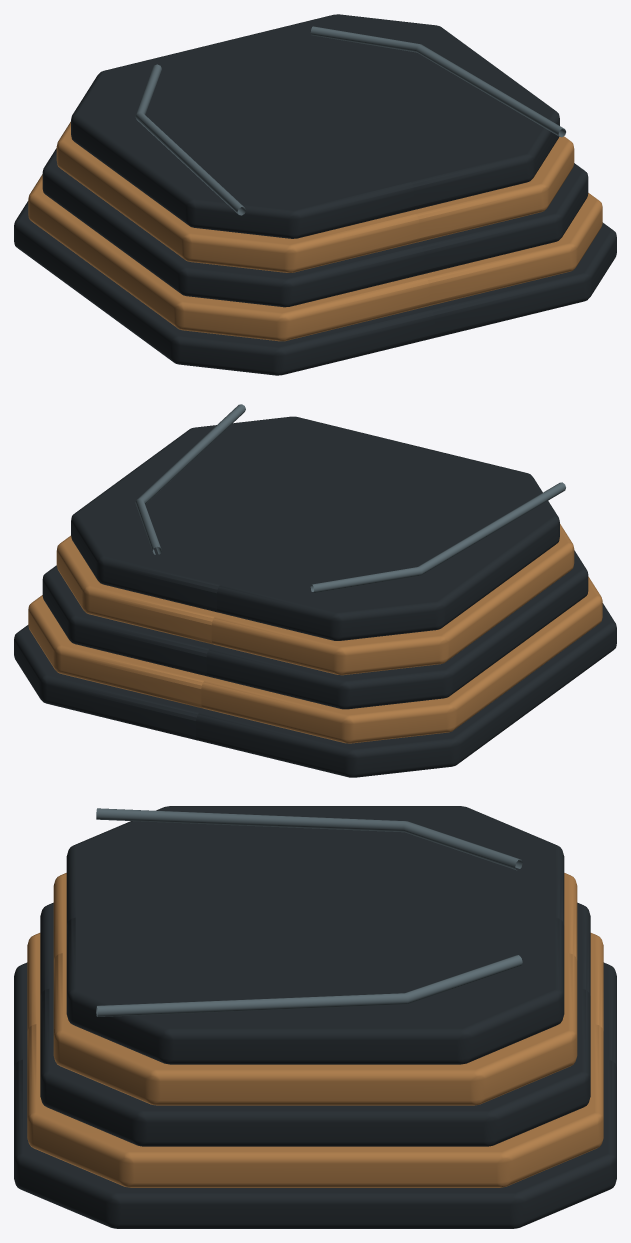
File: raw_morrow_composite.glb
3 renders of one model, top to bottom at view 1: azimuth 30°, elevation 25°; view 2: azimuth 150°, elevation 25°; view 3: azimuth 270°, elevation 25°, orthographic. The views are drawn at different scales.
Visible parts, largest first — view 1: UnfinishedLaminate.004, UnfinishedLaminate, UnfinishedLaminate.001, UnfinishedLaminate.002, UnfinishedLaminate.003, RawLamination.001; view 2: UnfinishedLaminate.004, UnfinishedLaminate, UnfinishedLaminate.001, UnfinishedLaminate.002, UnfinishedLaminate.003, RawLamination.001; view 3: UnfinishedLaminate.004, UnfinishedLaminate, UnfinishedLaminate.001, UnfinishedLaminate.002, UnfinishedLaminate.003, RawLamination.001.
Part boxes in pixels (x1,y1,x2,y2): UnfinishedLaminate.004: (71,14,559,238); UnfinishedLaminate: (14,201,616,375); UnfinishedLaminate.001: (28,174,602,341); UnfinishedLaminate.002: (42,148,588,307); UnfinishedLaminate.003: (56,121,574,272); RawLamination.001: (135,26,565,215); UnfinishedLaminate.004: (71,416,559,640); UnfinishedLaminate: (14,603,616,777); UnfinishedLaminate.001: (28,576,602,743); UnfinishedLaminate.002: (42,550,588,709); UnfinishedLaminate.003: (56,524,574,675); RawLamination.001: (135,404,565,593); UnfinishedLaminate.004: (66,806,564,1064); UnfinishedLaminate: (14,962,616,1228); UnfinishedLaminate.001: (27,933,603,1187); UnfinishedLaminate.002: (40,902,590,1146); UnfinishedLaminate.003: (53,873,577,1105); RawLamination.001: (96,808,522,1016).
Bounding box in the file's own units: 0.86 × 0.275 × 0.8.
